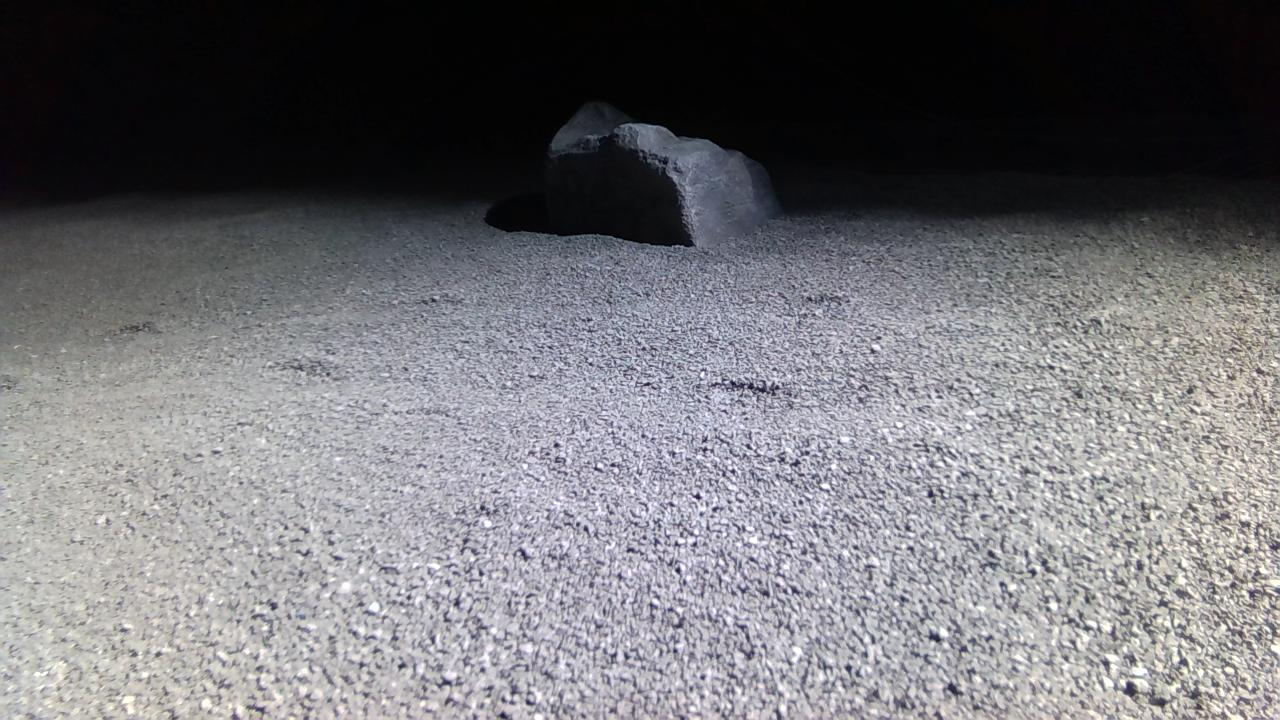rock: (545, 101, 783, 245)
